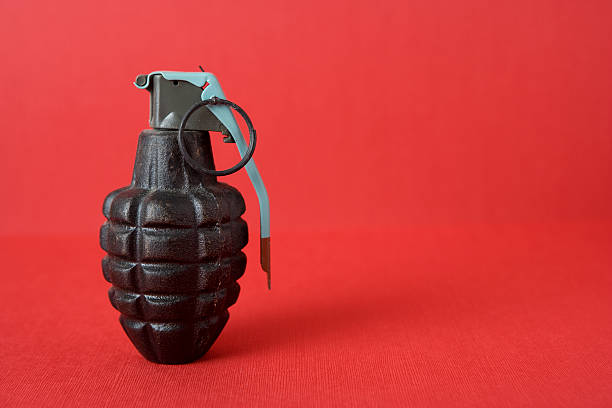e1: (97, 65, 276, 367)
